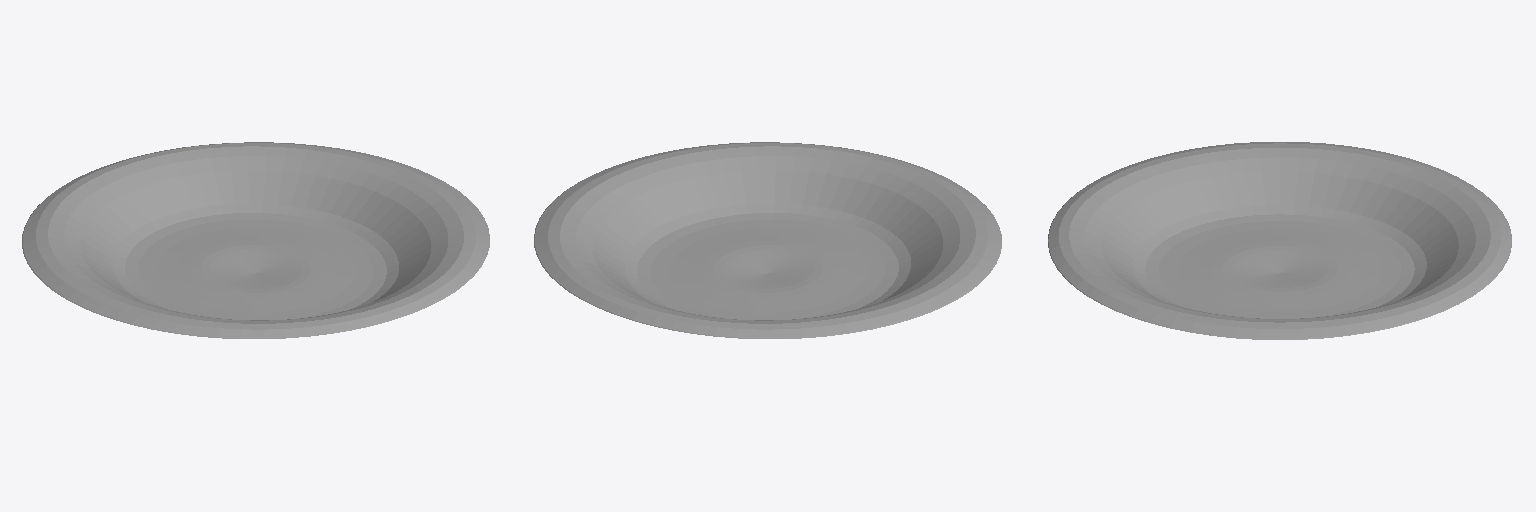
Rendered from plate.obj.
3 views of the same model, side by side, from view 1: azimuth 30°, elevation 25°; view 2: azimuth 150°, elevation 25°; view 3: azimuth 270°, elevation 25° (orthographic).
Visible parts, largest first — view 1: тарелка_Sphere; view 2: тарелка_Sphere; view 3: тарелка_Sphere.
Part boxes in pixels (x1,y1,x2,y2): тарелка_Sphere: (22,142,489,338); тарелка_Sphere: (534,142,1001,338); тарелка_Sphere: (1048,142,1511,339).
Size of the model in its own units: 0.2104 by 0.0206 by 0.208.